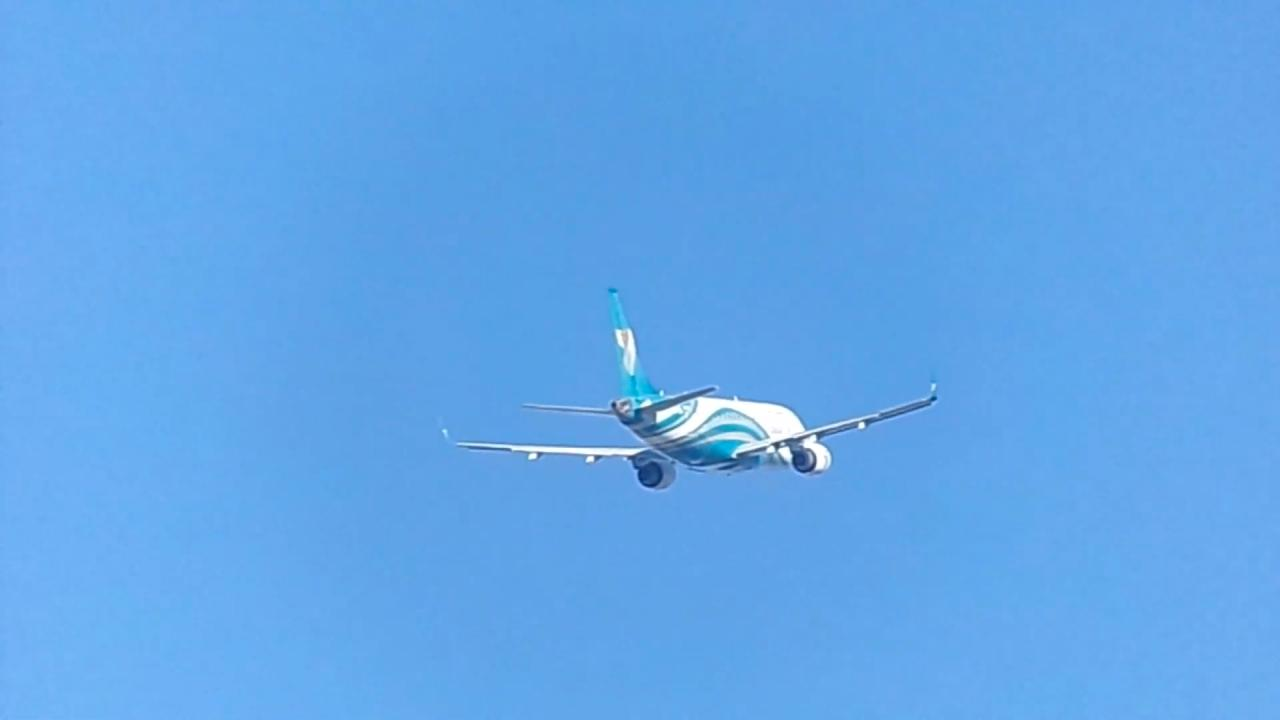Airplane: (434, 274, 953, 498)
